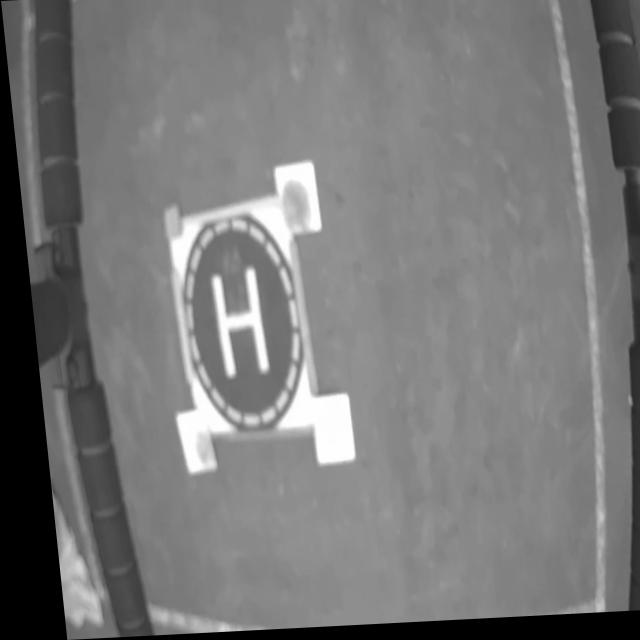Helipad: (204, 266, 261, 380)
